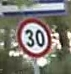limite 30: (13, 15, 53, 58)
